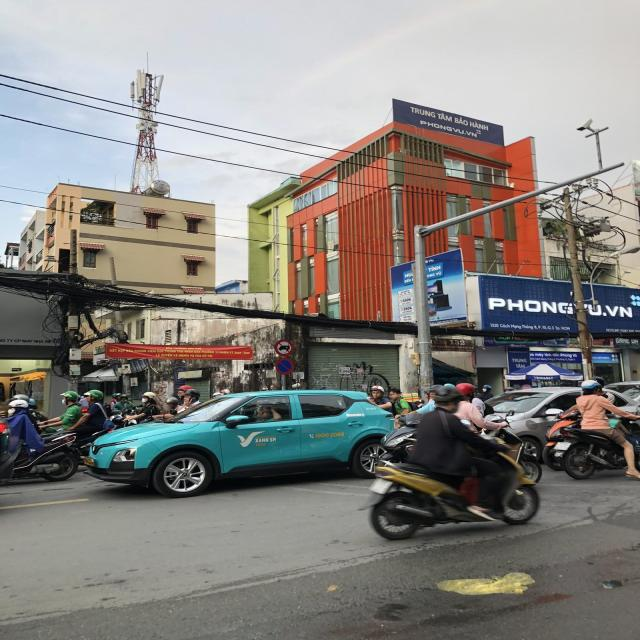Bien bao cam do xe: (274, 356, 297, 374)
Bien bao cam xe oto tai: (272, 338, 295, 356)
